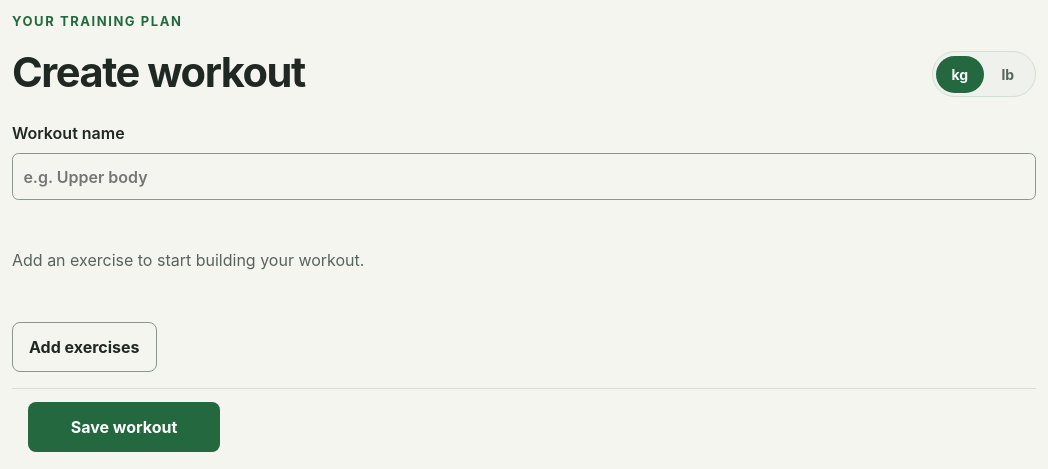
Test case: only shows the unsaved status after the draft changes
The width and height of the screenshot is (1048, 469).
Expected: the text "Unsaved changes" is not shown
Type "Upper" into the field labelled "Workout name" at (524, 177), box top-left (12, 153), bottom-right (1036, 200)
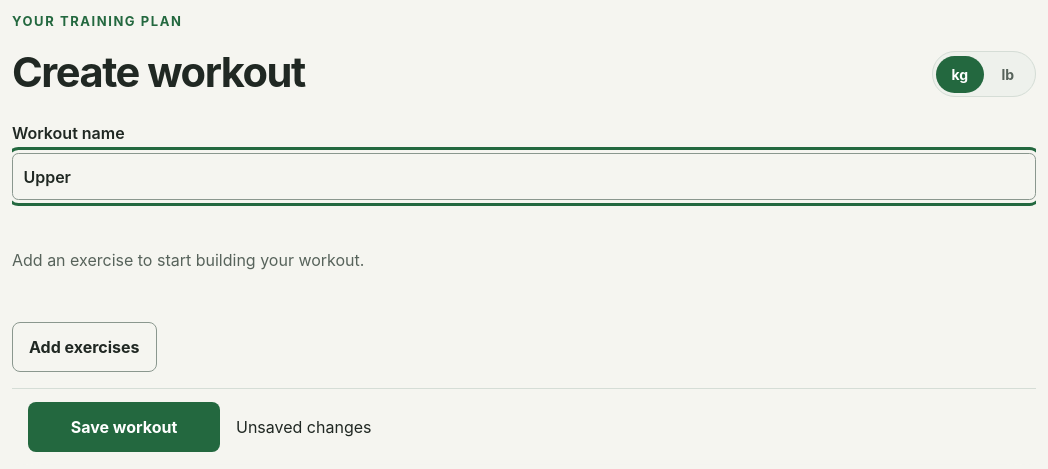
Expected: the text "Unsaved changes" is shown, top-left (236, 415), bottom-right (372, 439)
